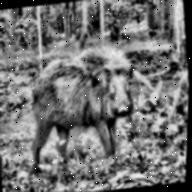boar: (13, 34, 146, 172)
